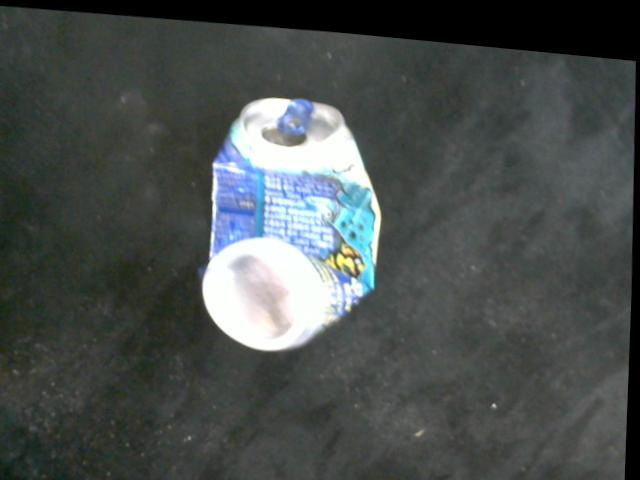can: (206, 89, 386, 347)
